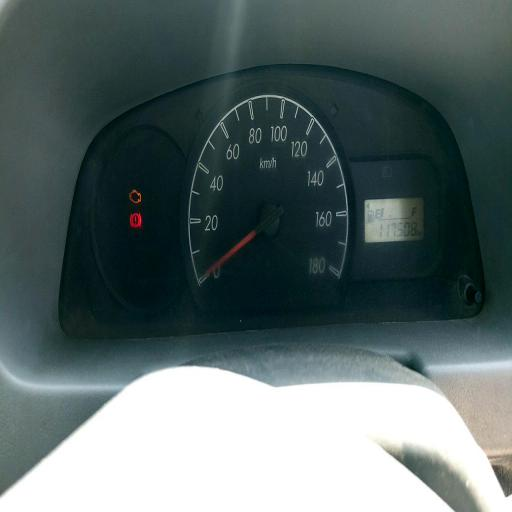brake_system_fault: (130, 214, 141, 228)
check_engine: (129, 188, 141, 204)
